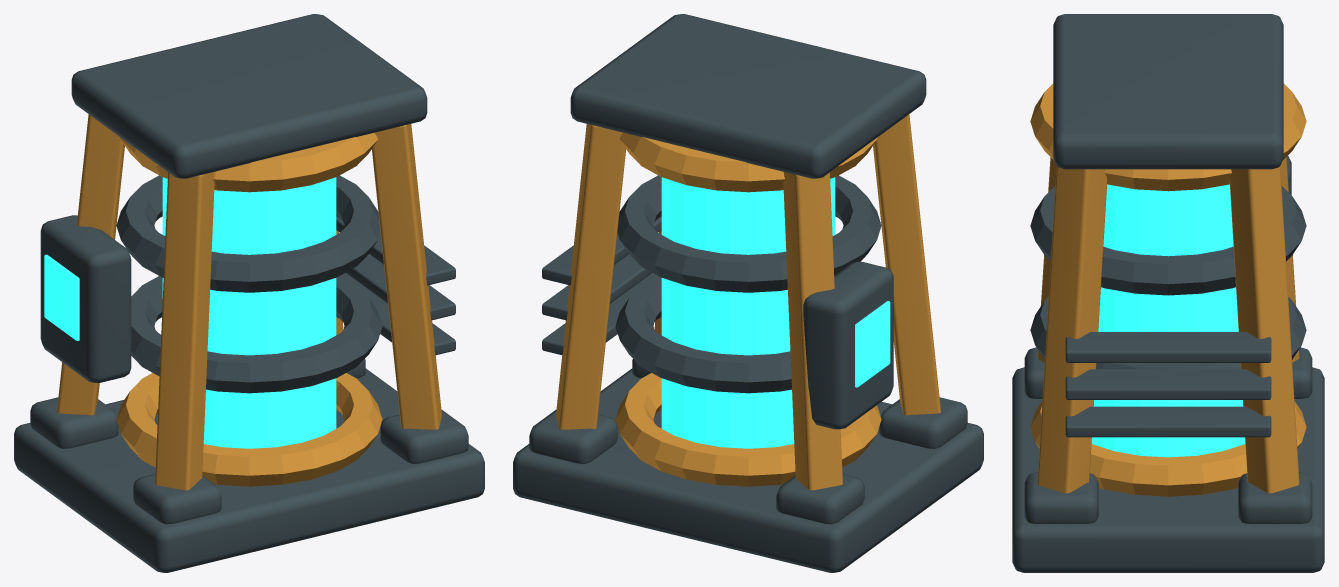
Rendered from reactor.glb.
3 renders of one model, left to right at view 1: azimuth 30°, elevation 25°; view 2: azimuth 150°, elevation 25°; view 3: azimuth 270°, elevation 25°, orthographic. The views are drawn at different scales.
Parts seen in each view (by area): view 1: reactor; view 2: reactor; view 3: reactor.
Boxes of the visible parts, left/top/right/bottom form: reactor: left=14, top=14, right=484, bottom=572; reactor: left=513, top=14, right=983, bottom=572; reactor: left=1012, top=14, right=1324, bottom=572.
Size of the model in its own units: 2.4 by 2.82 by 1.9.
